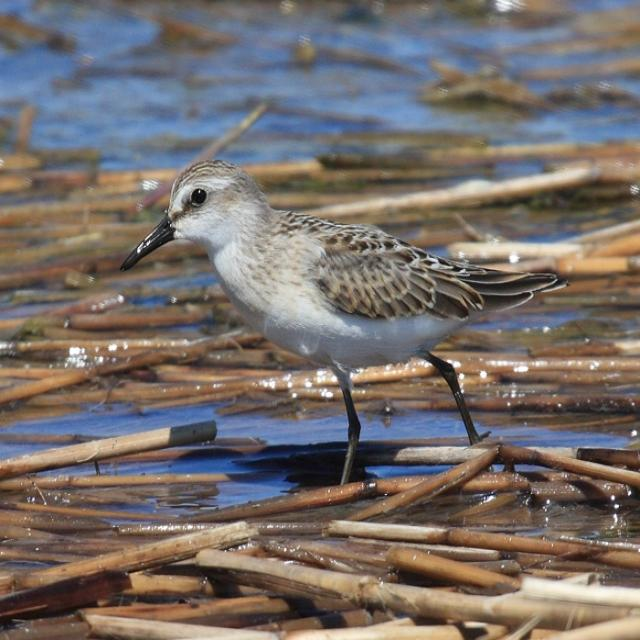bird: (126, 156, 554, 474)
